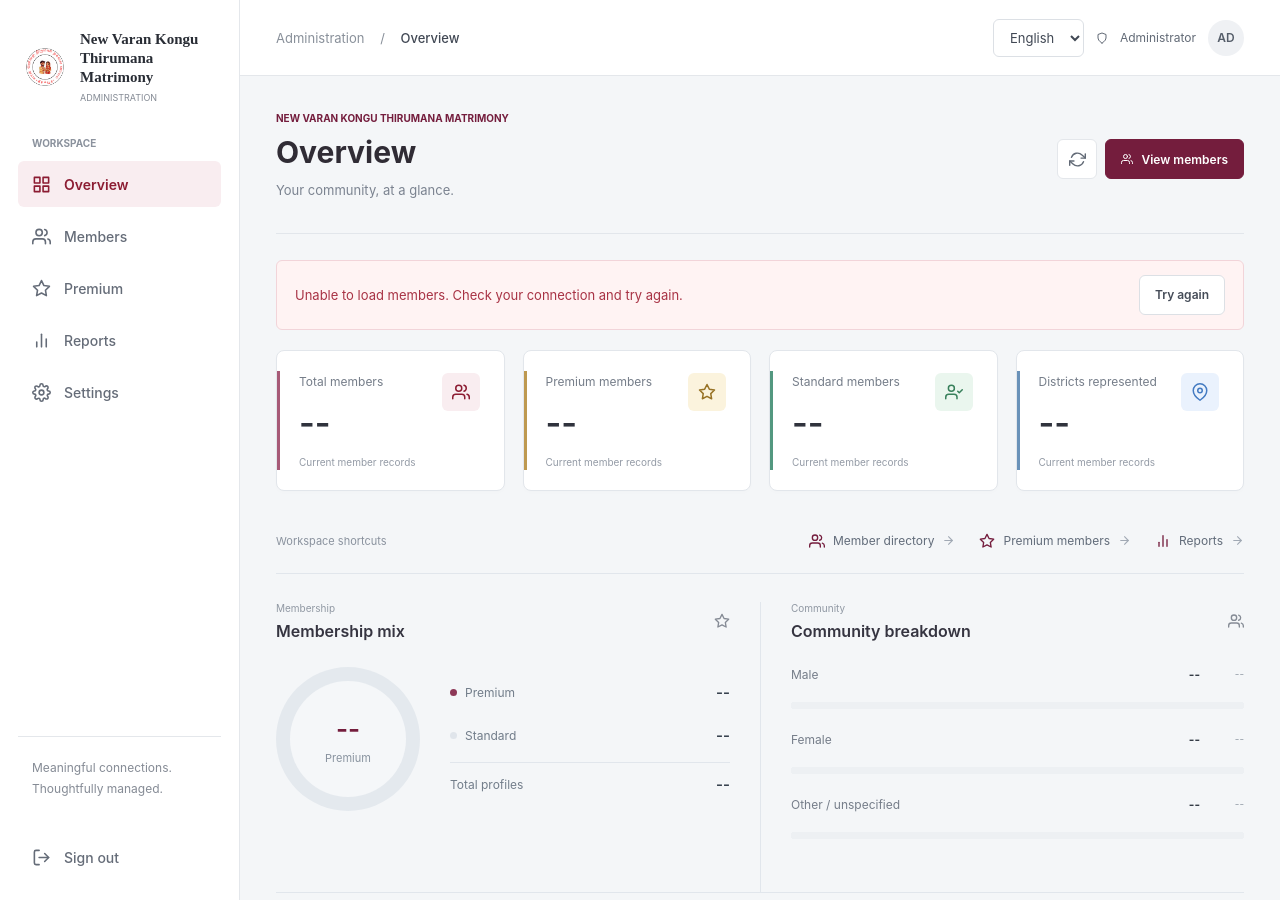
Scenario: shows failed data requests and allows retry
Expected: the message shows "Unable to load members", [295,287,683,303]
Click the button "Try again": click(1182, 295) [1139,275,1225,315]
(page scrolled)
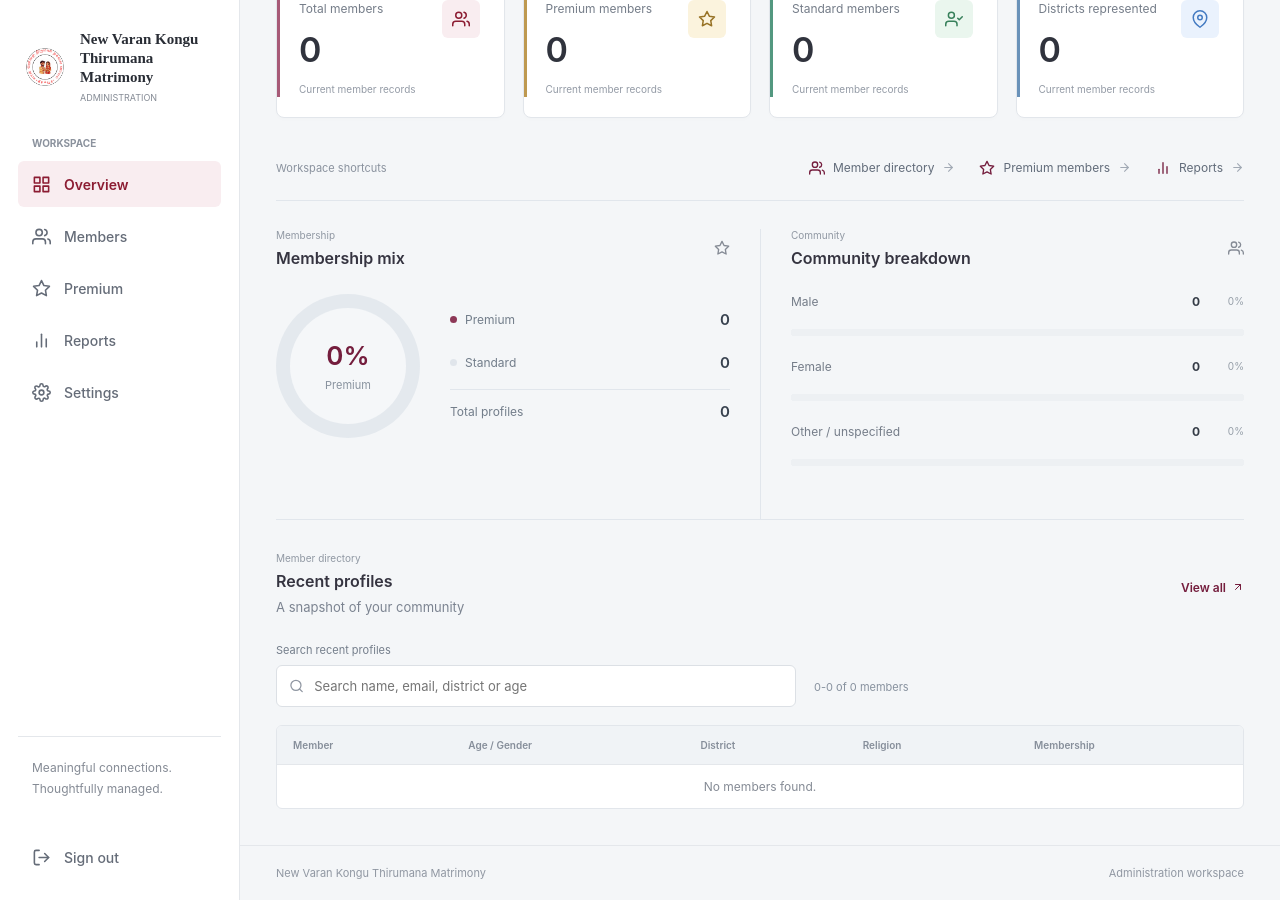
Expected: the text "No members found." is shown, [277,765,1243,808]
